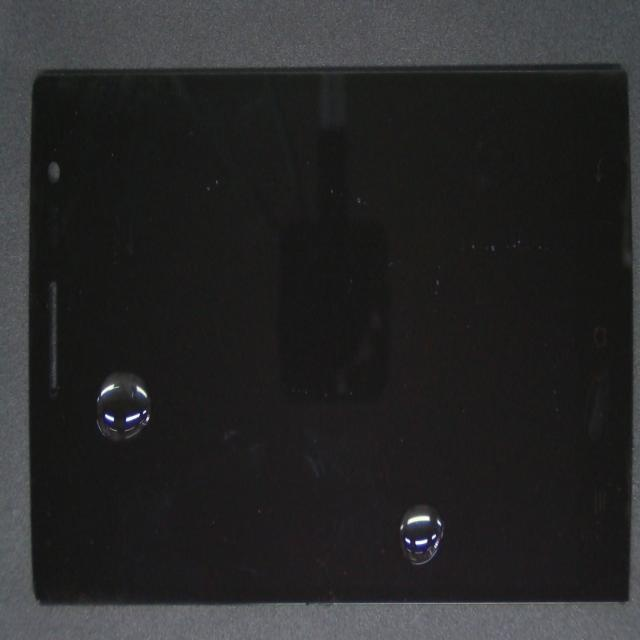oil: (235, 234, 629, 640), (67, 168, 151, 591)
